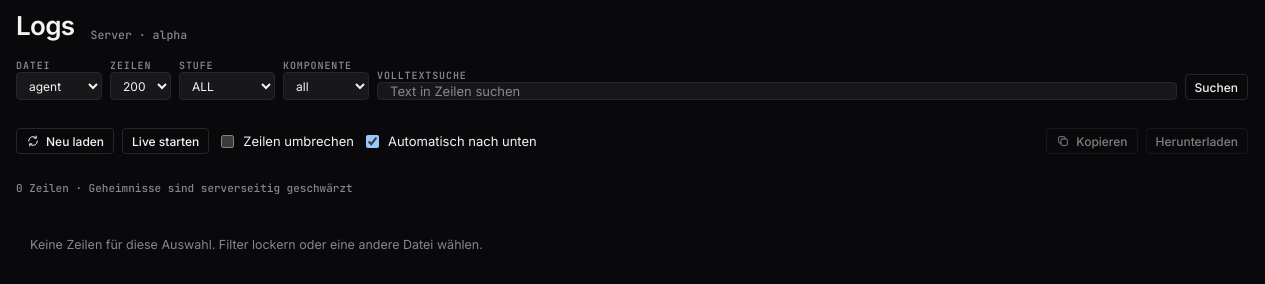
Test: Logs › explains an empty result and shows the reason for an error
The width and height of the screenshot is (1265, 284).
Check: the text "Keine Zeilen für diese Auswahl" is shown, box [30,237,483,252]
Click the button "Neu laden".
click(65, 141)  # box [16,128,114,154]
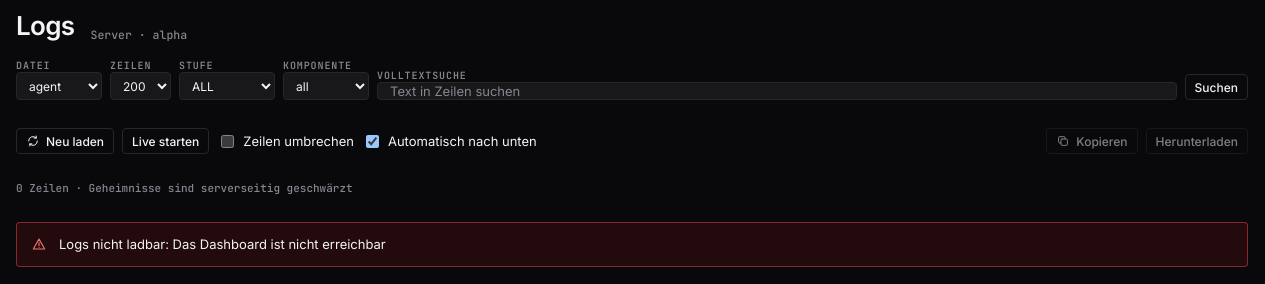
Check: the message "Logs nicht ladbar: Das Dashboard ist nicht erreichbar" is shown, box [16,222,1248,267]
